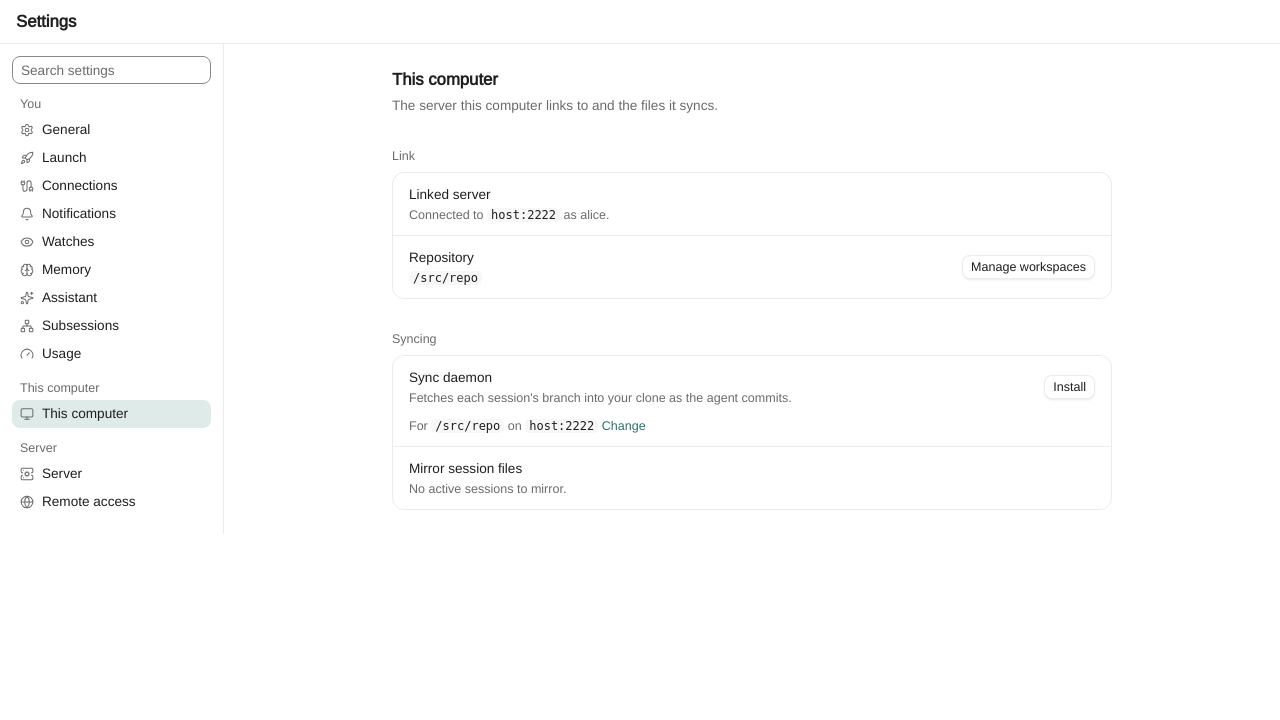
Test: settings view › installs the daemon and shows the unit path and enable note
Check: the form named "Install sync daemon" is shown, box [409,418,646,434]
Click the 11th button named "Install".
click(1070, 387)  # box [1044,375,1095,399]
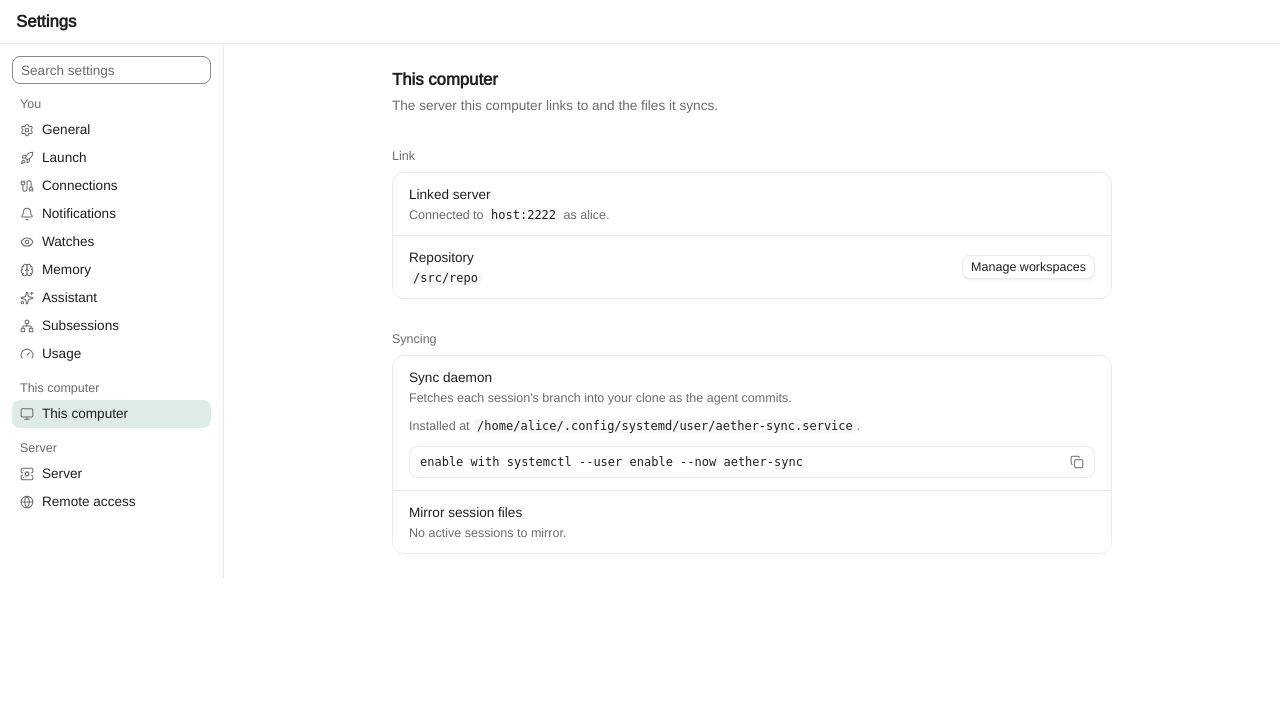
Check: the text "enable with systemctl --user enable --now aether-sync" is shown, box [420,455,803,469]
